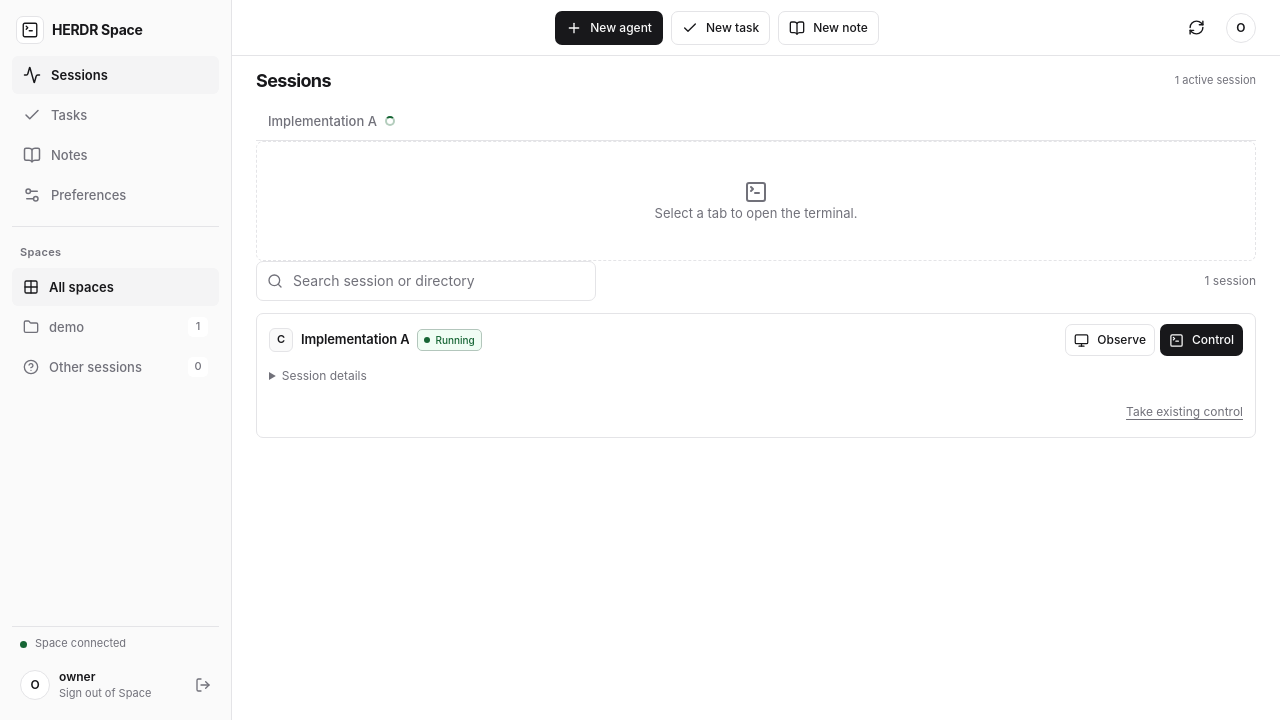
Test: keeps inventory and filters out of the selected space workspace
The width and height of the screenshot is (1280, 720).
Click the button "demo 1".
click(116, 327)  # box [12,308,219,346]
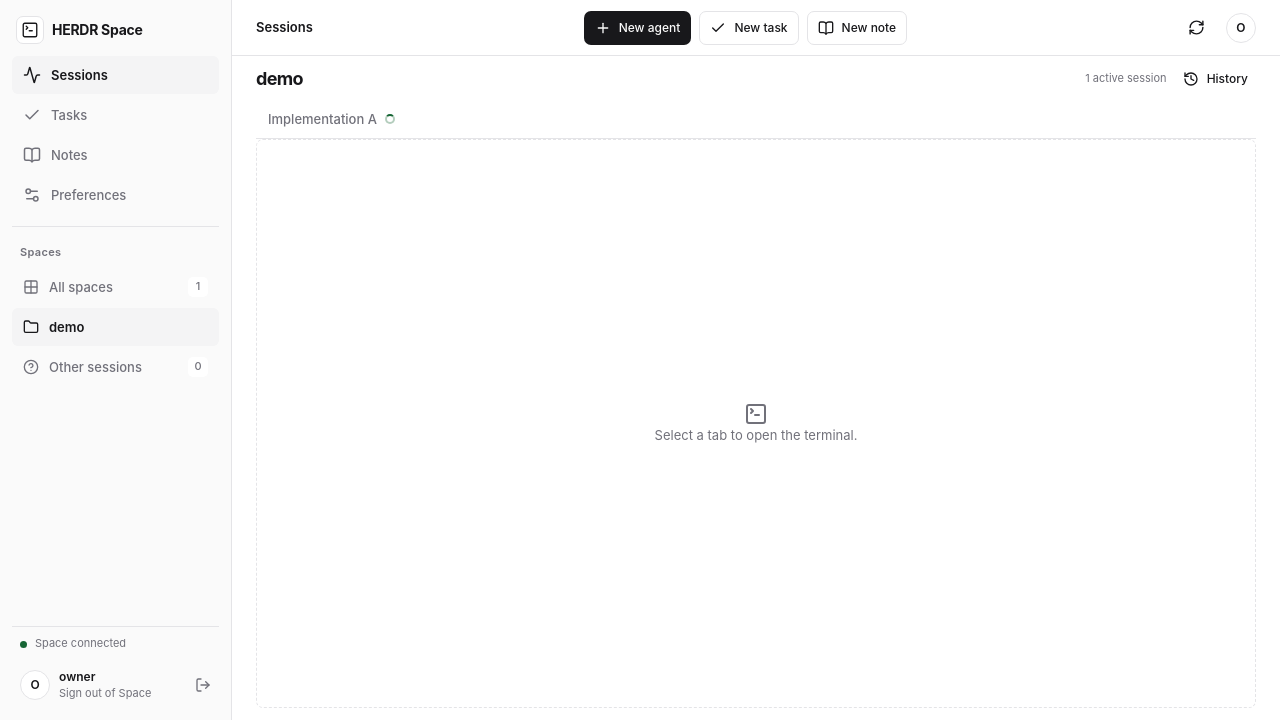
Check: the tab "Implementation A" is shown, box [256,100,407,138]
Check: the heading "demo" is shown, box [256,68,303,90]
